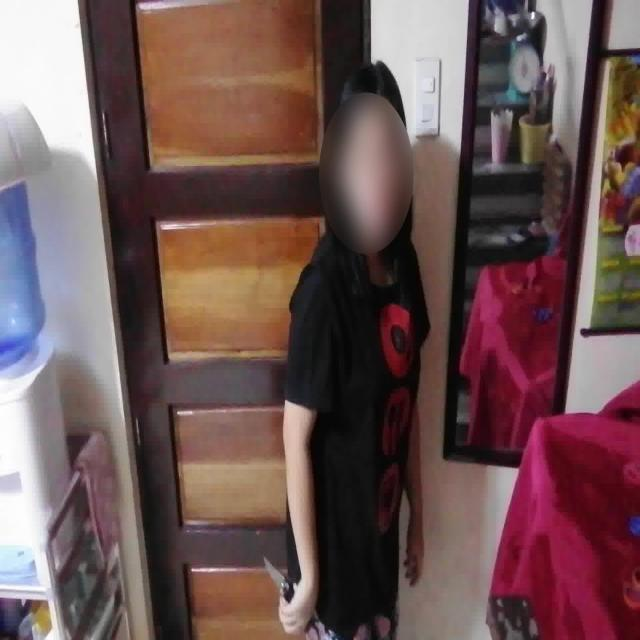scissor: (263, 553, 330, 640)
